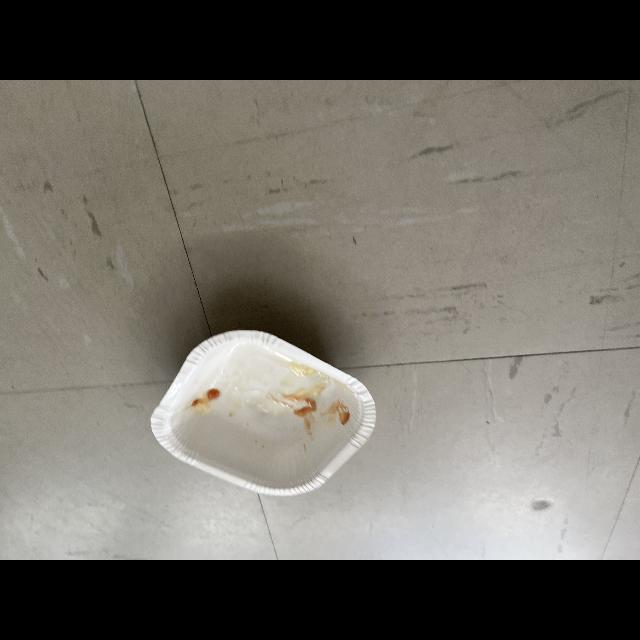cardboard_bowl: (140, 323, 380, 503)
